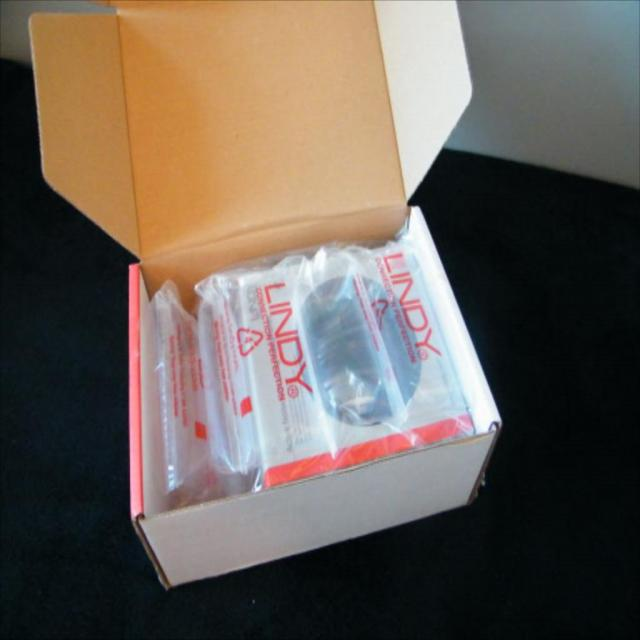Box: (28, 0, 500, 600)
